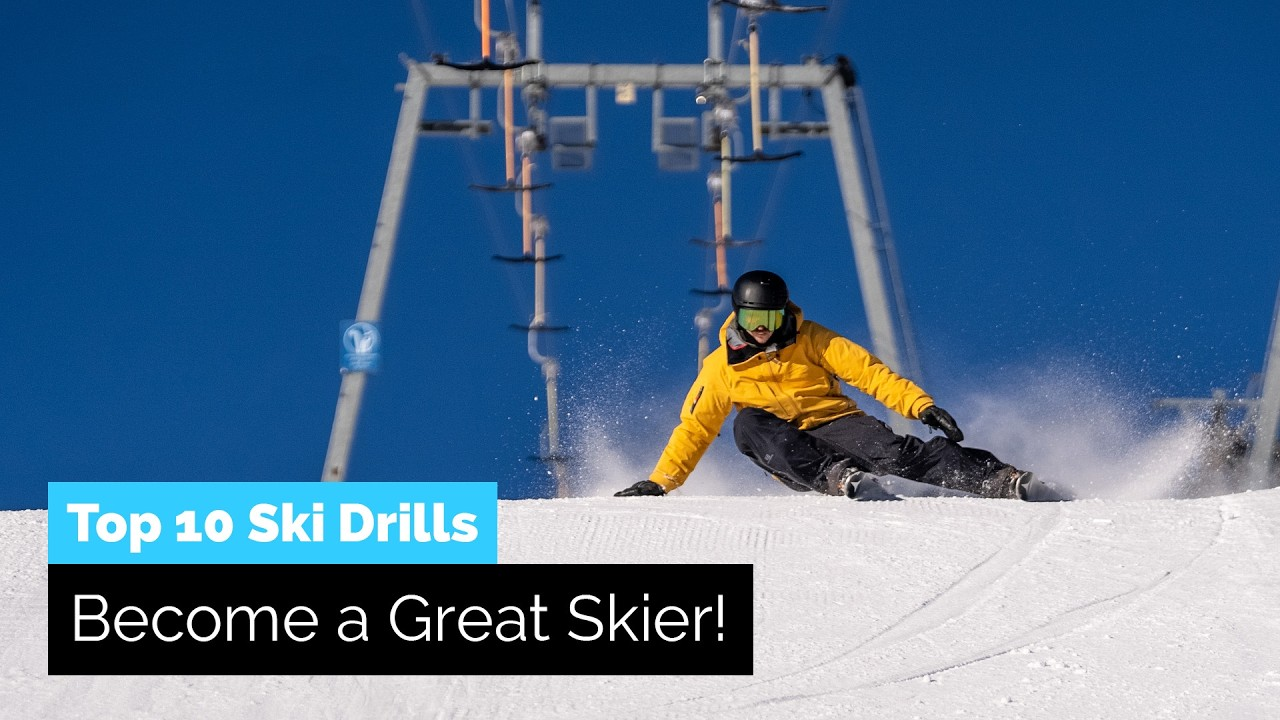skier: (578, 255, 1086, 518)
